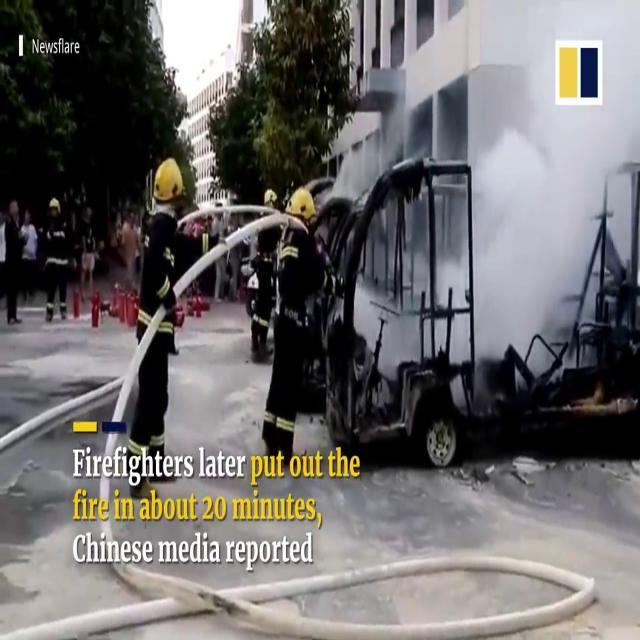Smoke: (463, 0, 640, 345)
